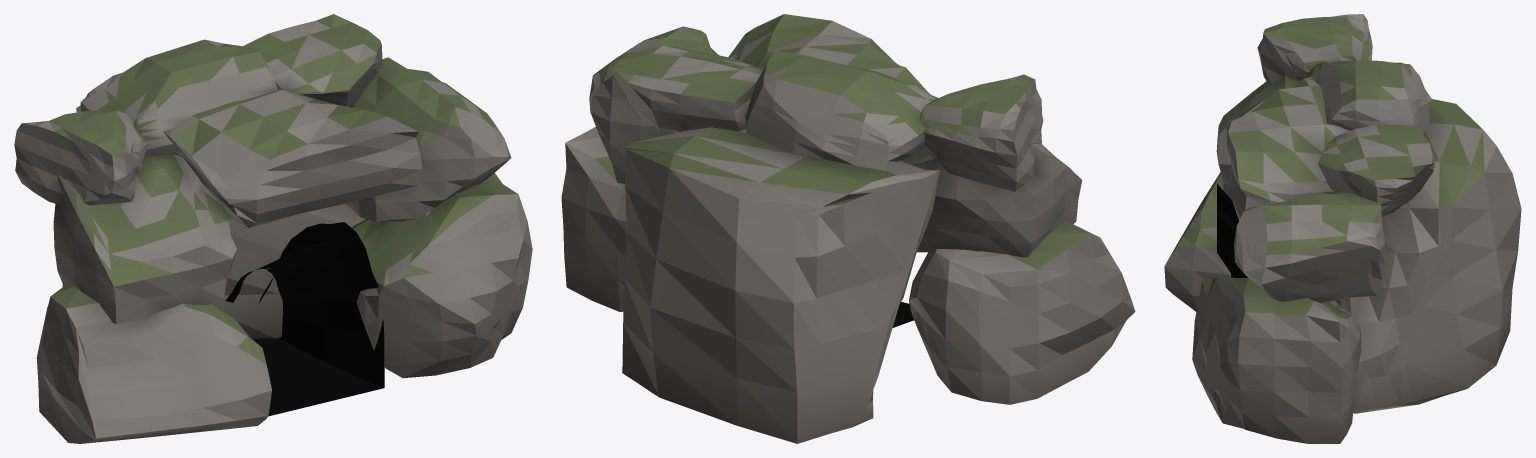
The model's file is cave_outcrop.glb.
The picture shows the model from 3 angles, left to right: view 1: azimuth 30°, elevation 25°; view 2: azimuth 150°, elevation 25°; view 3: azimuth 270°, elevation 25°; orthographic projection. The views are drawn at different scales.
Parts seen in each view (by area): view 1: cave_outcrop_LOD0, cave_mouth_LOD0; view 2: cave_outcrop_LOD0; view 3: cave_outcrop_LOD0, cave_mouth_LOD0.
Part boxes in pixels (<box>): cave_outcrop_LOD0: <box>14,14,532,443</box>; cave_mouth_LOD0: <box>225,222,384,416</box>; cave_outcrop_LOD0: <box>561,14,1135,443</box>; cave_outcrop_LOD0: <box>1164,14,1521,443</box>; cave_mouth_LOD0: <box>1217,184,1248,278</box>.
Size of what is drawn, in the model's own units: 7.8 by 4.64 by 5.77.
